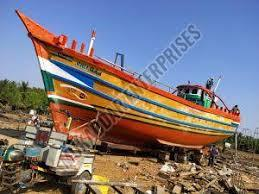fishing boat: (12, 6, 243, 156)
